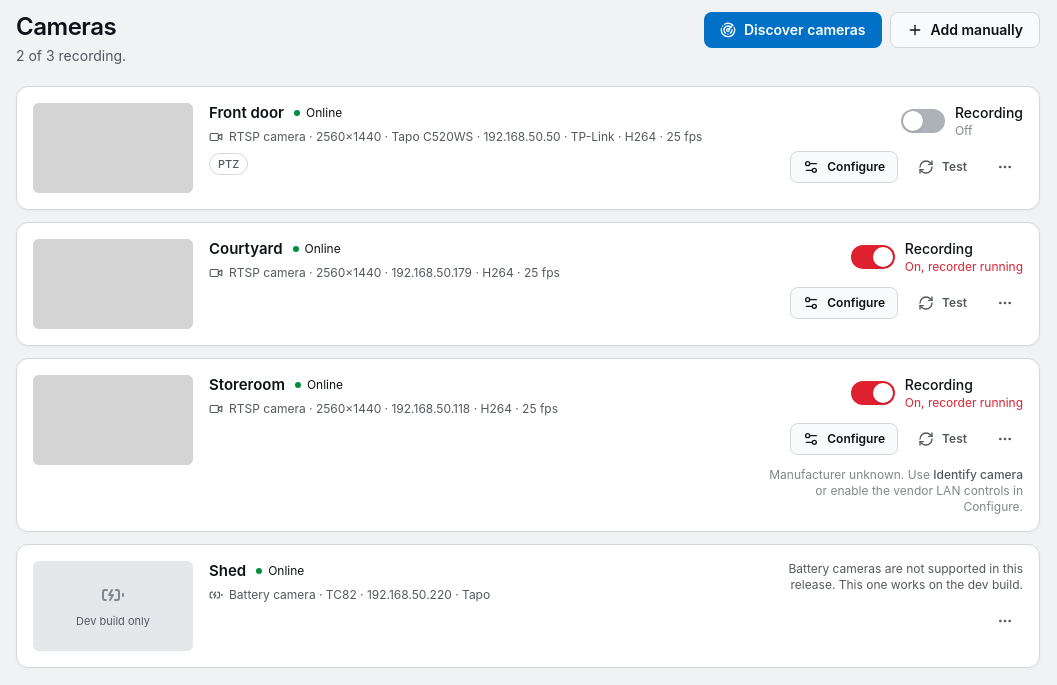
Test: turning a camera off from the list › turns it back on again
Expected: the text "2 of 3 recording." is shown, [16,46,126,66]
What coordinates should you click on to do the following:
click the switch named "Recording" next to "Off"
I would click on:
 (923, 121)
Its box is [901,109,945,133].
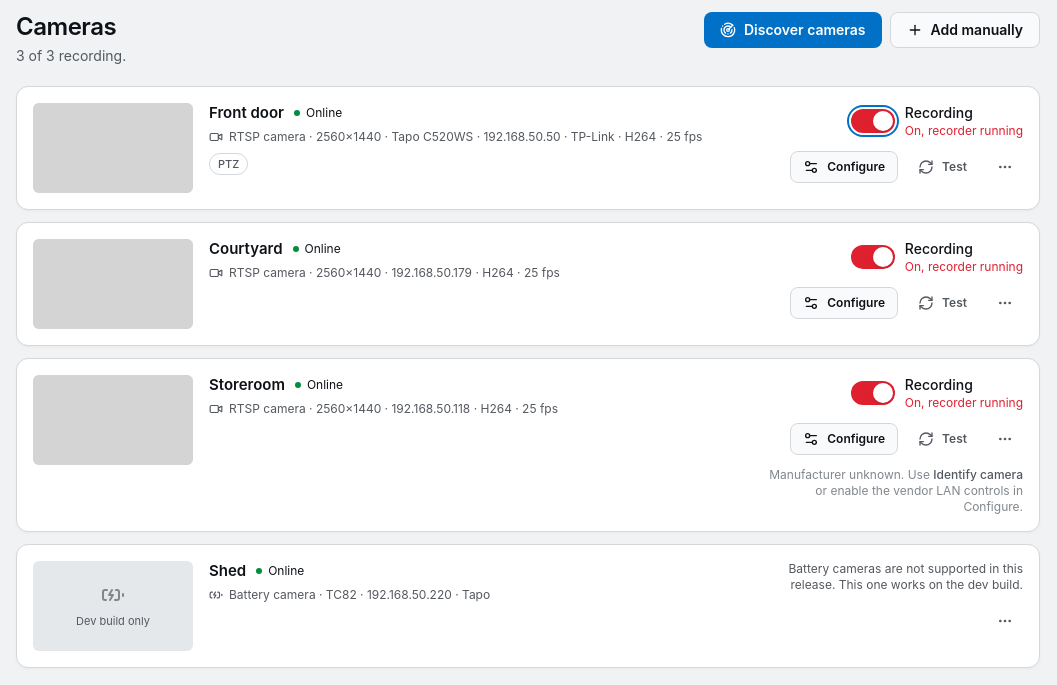
Now the switch named "Recording" in the row of "Front door" is checked, box [851,109,895,133]
Now the text "3 of 3 recording." is shown, box [16,46,126,66]
